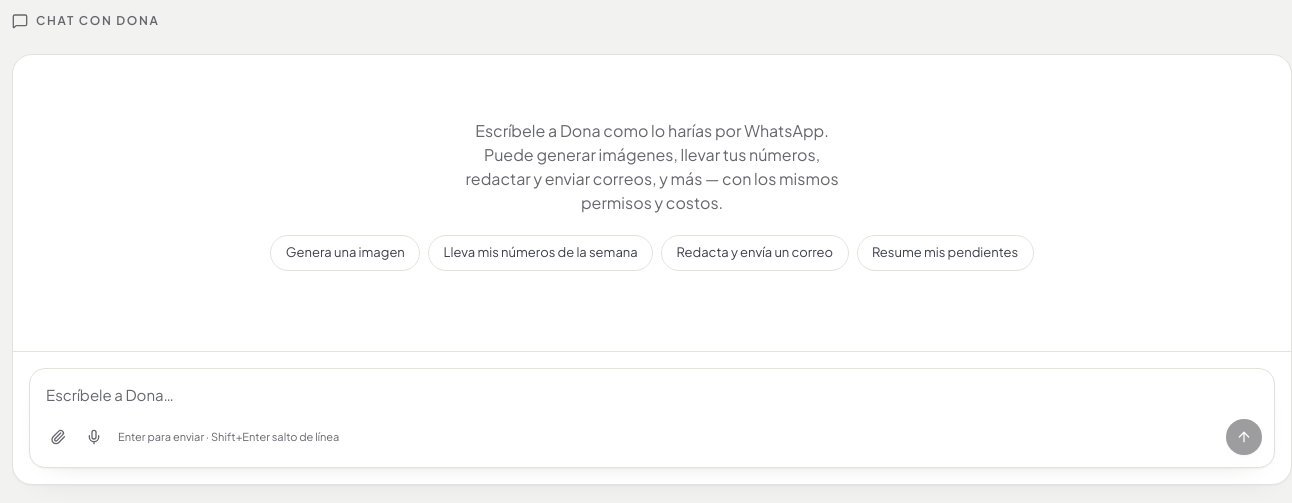
SeccionChat › mapea 429 a un mensaje de 'vas muy rápido'
The width and height of the screenshot is (1292, 503).
Type "spam" into the text box with placeholder "Escríbele a Dona…".
click(652, 388); type("spam")  # box [30,369,1274,407]
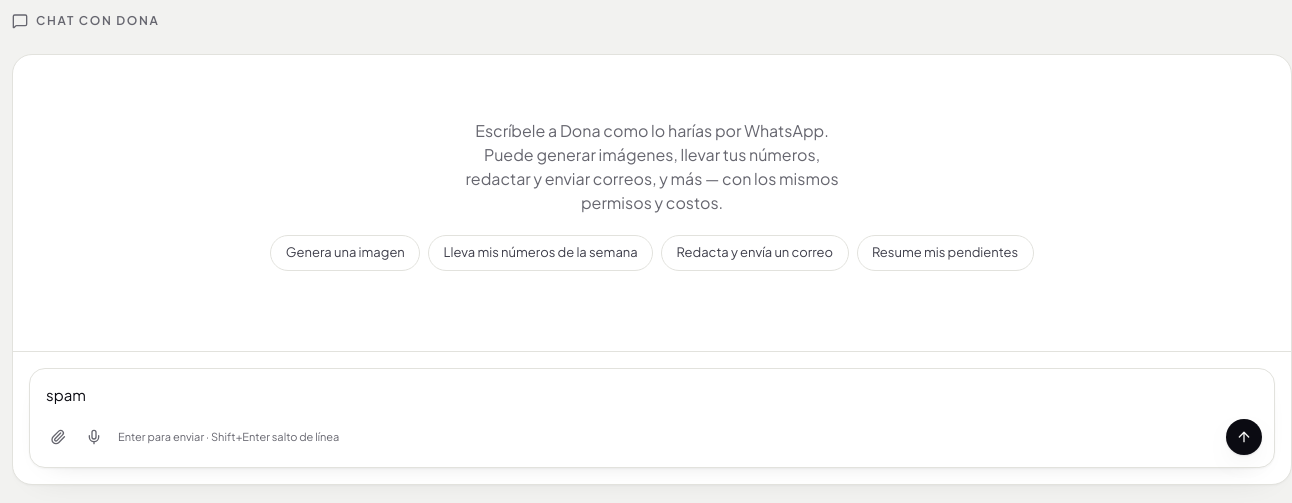
Click the button named "Enviar mensaje".
click(1244, 437)  # box [1226,419,1262,455]
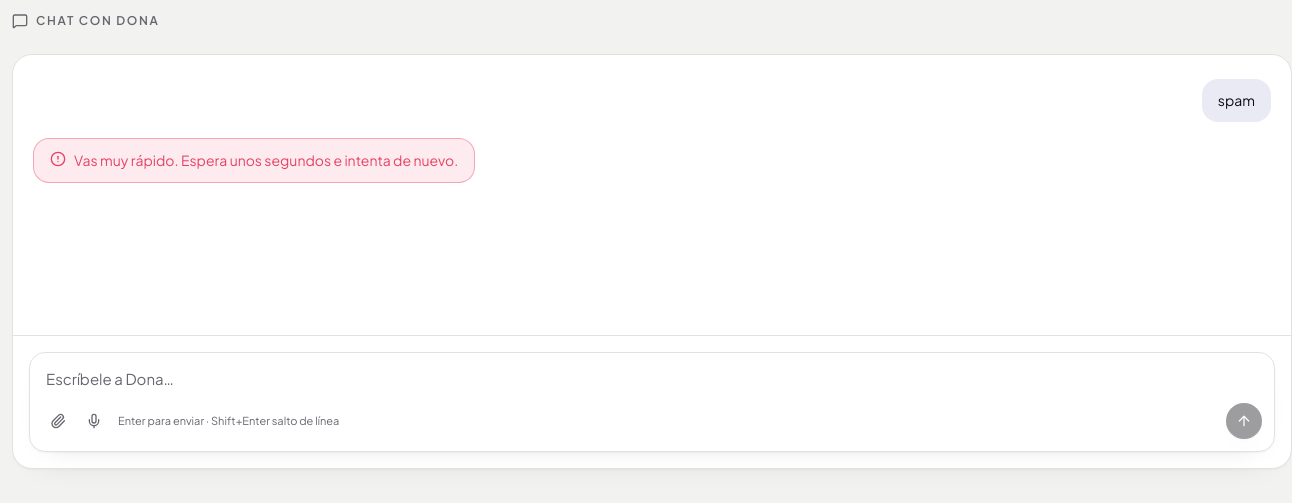
Expected: the text "Vas muy rápido. Espera unos segundos e intenta de nuevo." is shown, [74,149,458,172]
